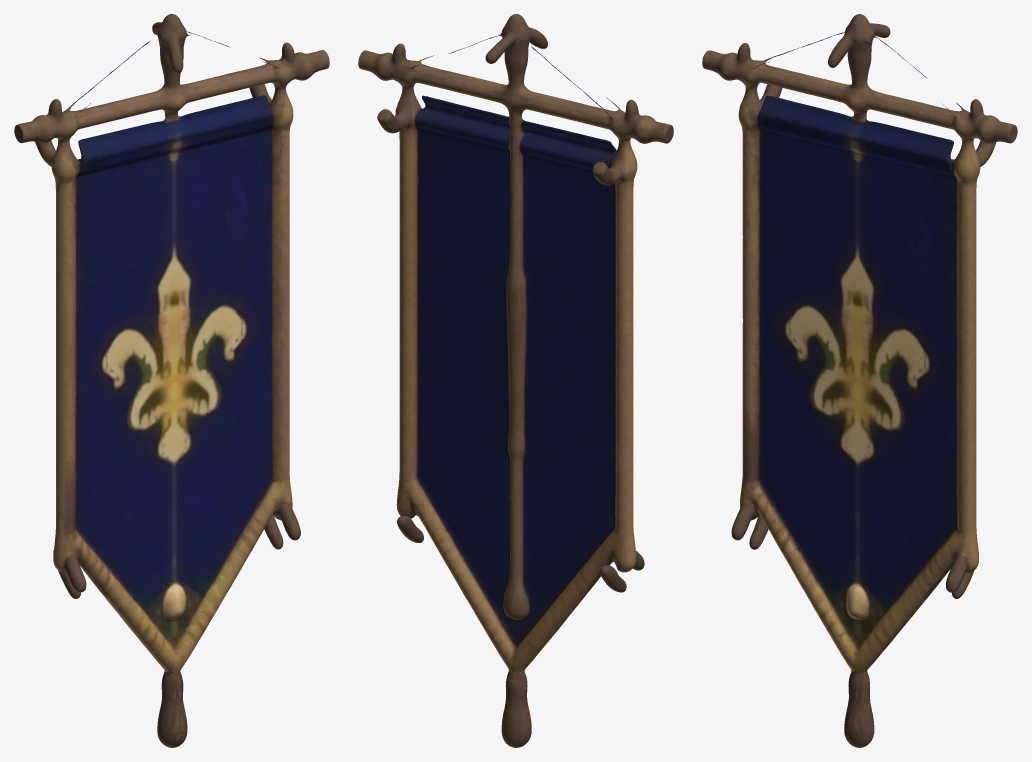
The model's file is item_ambiente_md_5.glb.
3 renders of one model, left to right at view 1: azimuth 30°, elevation 25°; view 2: azimuth 150°, elevation 25°; view 3: azimuth 330°, elevation 25°, orthographic.
Bounding box in the file's own units: 0.833 × 1.9 × 0.2197.
1 material, 1 textured.
